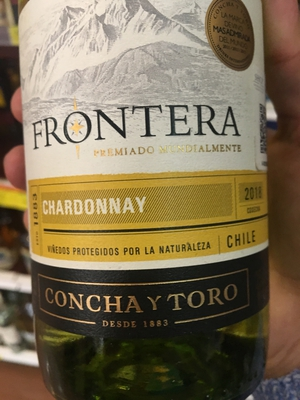frontera chardonnay: (19, 3, 274, 400)
